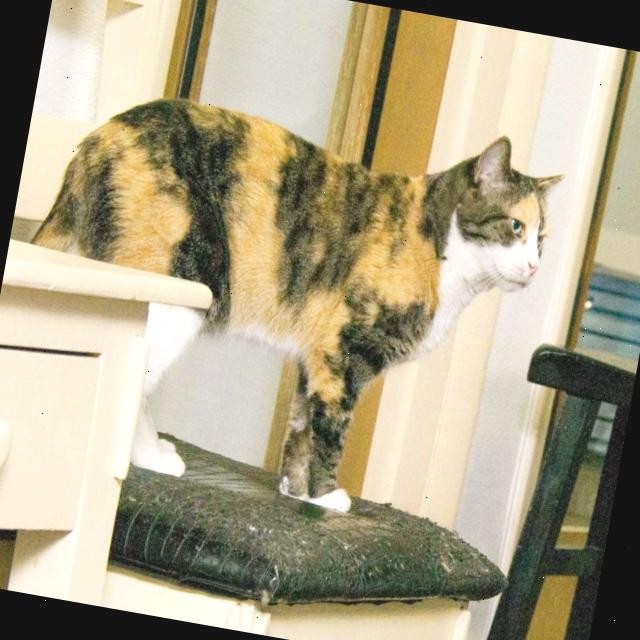calico_cat: (418, 127, 586, 320)
